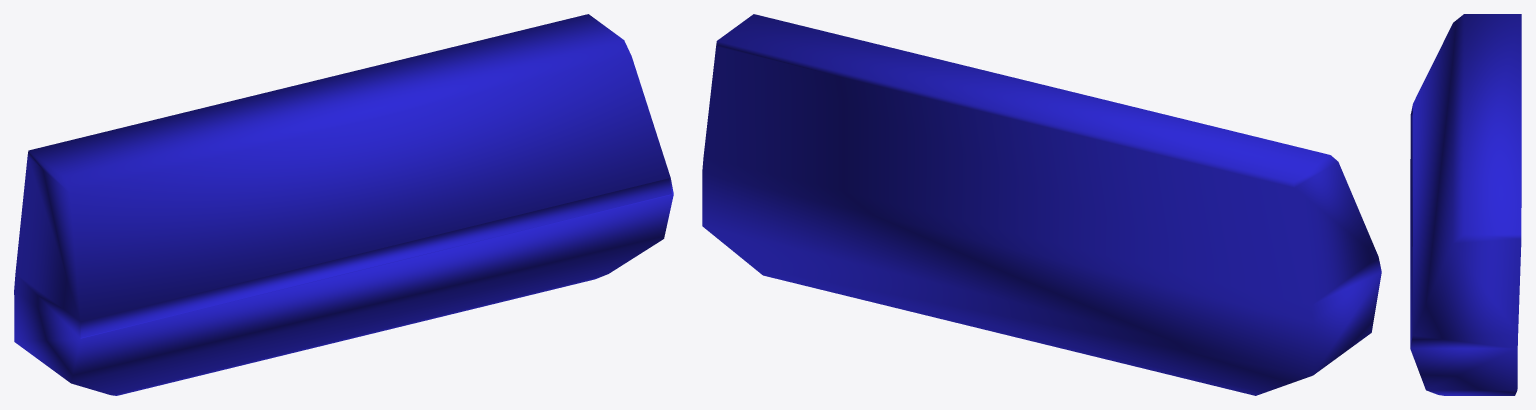
The model's file is Objeto_Split_1.0.fbx.
3 views of the same model, side by side, from view 1: azimuth 30°, elevation 25°; view 2: azimuth 150°, elevation 25°; view 3: azimuth 270°, elevation 25° (orthographic). The views are drawn at different scales.
Parts seen in each view (by area): view 1: Cube; view 2: Cube; view 3: Cube.
Part boxes in pixels (x1,y1,x2,y2): Cube: (14,14,673,395); Cube: (702,14,1381,395); Cube: (1410,14,1521,395).
Size of the model in its own units: 289 by 103 by 58.36.
